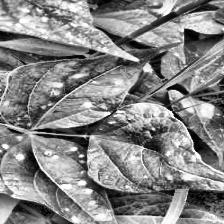Bean Rust: (0, 42, 165, 125), (87, 104, 224, 196), (0, 129, 131, 224), (0, 0, 107, 49)
